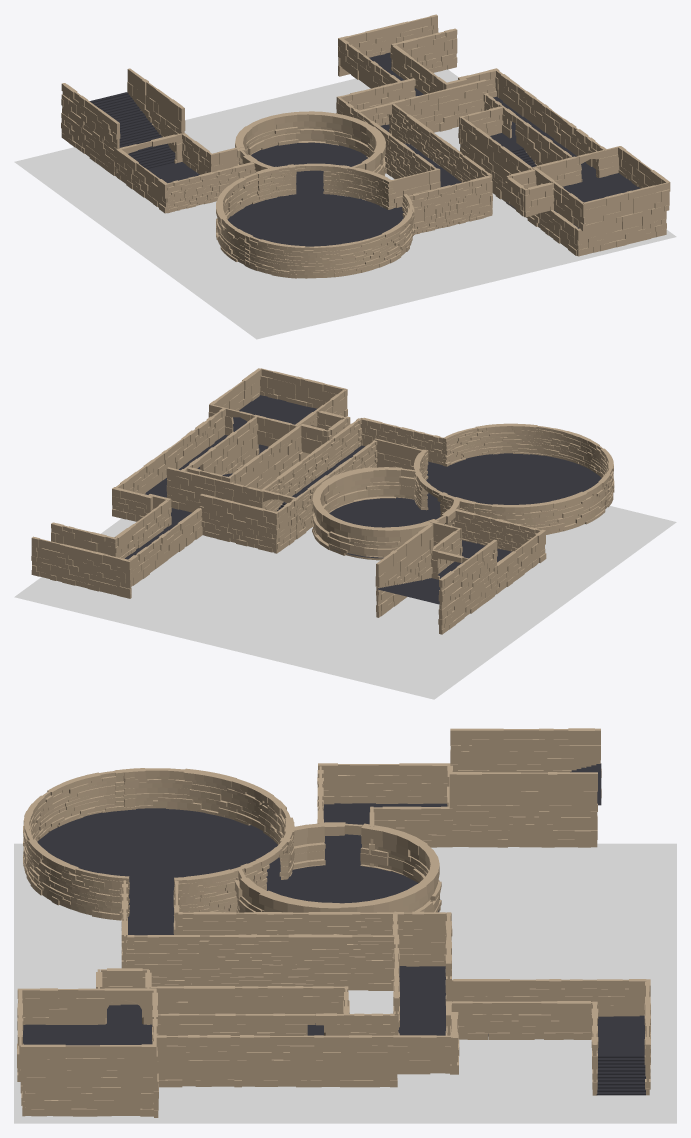
File: area_0002.glb
3 renders of one model, top to bottom at view 1: azimuth 30°, elevation 25°; view 2: azimuth 150°, elevation 25°; view 3: azimuth 270°, elevation 25°, orthographic. The views are drawn at different scales.
Visible parts, largest first — view 1: Plane, Circle.001, Wall.028, Wall.025, Wall.027, Wall.029, Wall.035, Circle.002, Wall.001, Wall.008, Wall.026, Wall.003 (+28 smaller); view 2: Plane, Circle.001, Wall.025, Wall.028, Wall.016, Wall.026, Wall.035, Wall.004, Wall.017, Wall.003, Wall.001, Wall.008 (+22 smaller); view 3: Plane, Circle.001, Wall.003, Wall.001, Wall.017, Wall.025, Wall.028, Wall.002, Wall.026, Wall.035, Wall.012, Wall.036 (+23 smaller).
Part boxes in pixels (x1=…): Plane: x1=14, y1=69, x2=676, y2=339; Circle.001: x1=227, y1=192, x2=403, y2=246; Wall.028: x1=244, y1=194, x2=414, y2=278; Wall.025: x1=235, y1=111, x2=385, y2=175; Wall.027: x1=255, y1=163, x2=393, y2=209; Wall.029: x1=409, y1=175, x2=492, y2=234; Wall.035: x1=61, y1=83, x2=120, y2=176; Circle.002: x1=251, y1=142, x2=367, y2=200; Wall.001: x1=495, y1=70, x2=606, y2=168; Wall.008: x1=389, y1=79, x2=486, y2=134; Wall.026: x1=216, y1=167, x2=291, y2=264; Wall.003: x1=389, y1=104, x2=492, y2=213; Plane: x1=14, y1=506, x2=676, y2=699; Circle.001: x1=424, y1=453, x2=601, y2=519; Wall.025: x1=312, y1=467, x2=460, y2=560; Wall.028: x1=442, y1=423, x2=614, y2=507; Wall.016: x1=31, y1=536, x2=131, y2=598; Wall.026: x1=441, y1=475, x2=609, y2=534; Wall.035: x1=438, y1=539, x2=497, y2=634; Wall.004: x1=199, y1=494, x2=278, y2=552; Wall.017: x1=375, y1=524, x2=433, y2=617; Wall.003: x1=259, y1=418, x2=362, y2=511; Wall.001: x1=115, y1=407, x2=226, y2=493; Wall.008: x1=166, y1=467, x2=264, y2=512; Plane: x1=14, y1=843, x2=676, y2=1123; Circle.001: x1=37, y1=808, x2=285, y2=914; Wall.003: x1=126, y1=934, x2=393, y2=990; Wall.001: x1=155, y1=1035, x2=452, y2=1074; Wall.017: x1=449, y1=772, x2=597, y2=847; Wall.025: x1=234, y1=822, x2=441, y2=912; Wall.028: x1=23, y1=769, x2=129, y2=920; Wall.002: x1=154, y1=1013, x2=397, y2=1087; Wall.026: x1=122, y1=768, x2=294, y2=870; Wall.035: x1=450, y1=728, x2=601, y2=797; Wall.012: x1=446, y1=1001, x2=597, y2=1039; Wall.036: x1=151, y1=986, x2=346, y2=1022.
Size of the model in its own units: 100 by 21.34 by 100.
